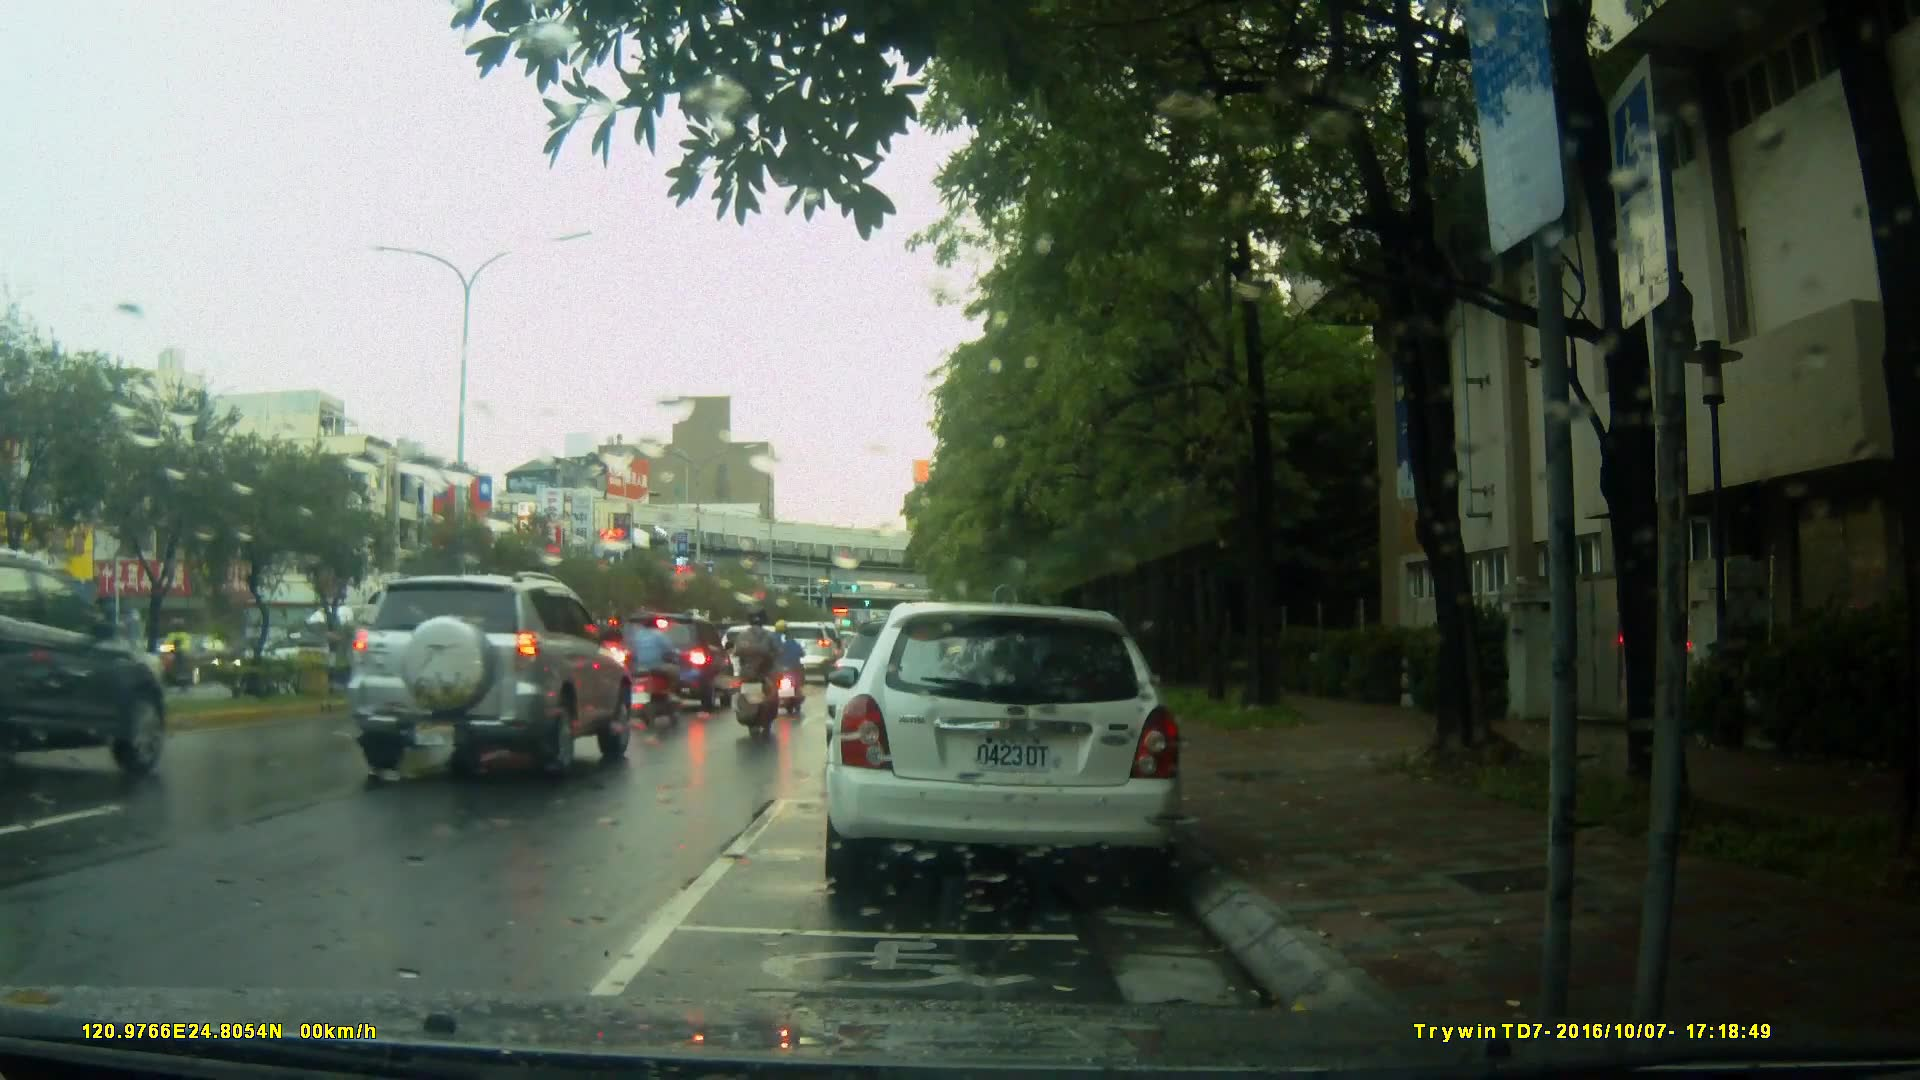rider: (728, 606, 786, 735), (631, 614, 683, 723), (763, 617, 804, 716)
vehicle: (820, 602, 1188, 898), (335, 568, 634, 780), (1, 546, 175, 796), (609, 611, 739, 712), (134, 634, 239, 689)
